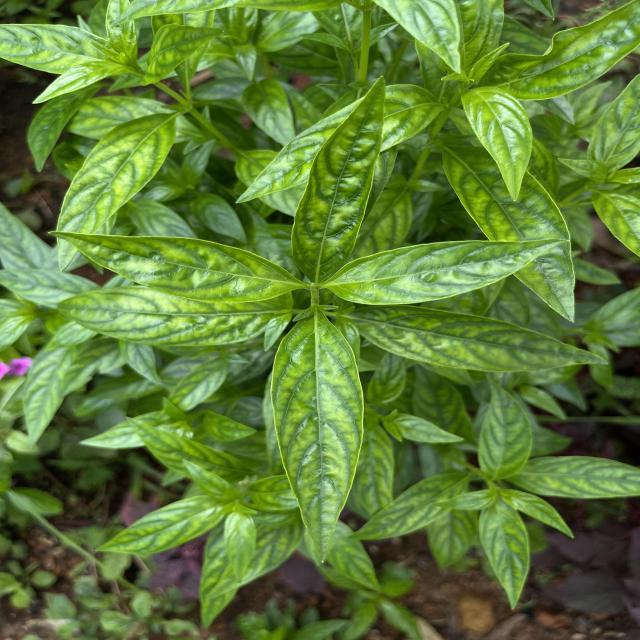Andrographis paniculata: (438, 140, 580, 324), (268, 310, 366, 566), (52, 110, 178, 272), (289, 73, 386, 281), (346, 304, 612, 374), (45, 234, 302, 305), (323, 236, 575, 306), (54, 286, 294, 350), (345, 468, 478, 542), (22, 322, 92, 451), (91, 494, 236, 556), (458, 86, 532, 204), (198, 516, 258, 630), (474, 372, 536, 479), (476, 500, 534, 611), (512, 452, 640, 500)
